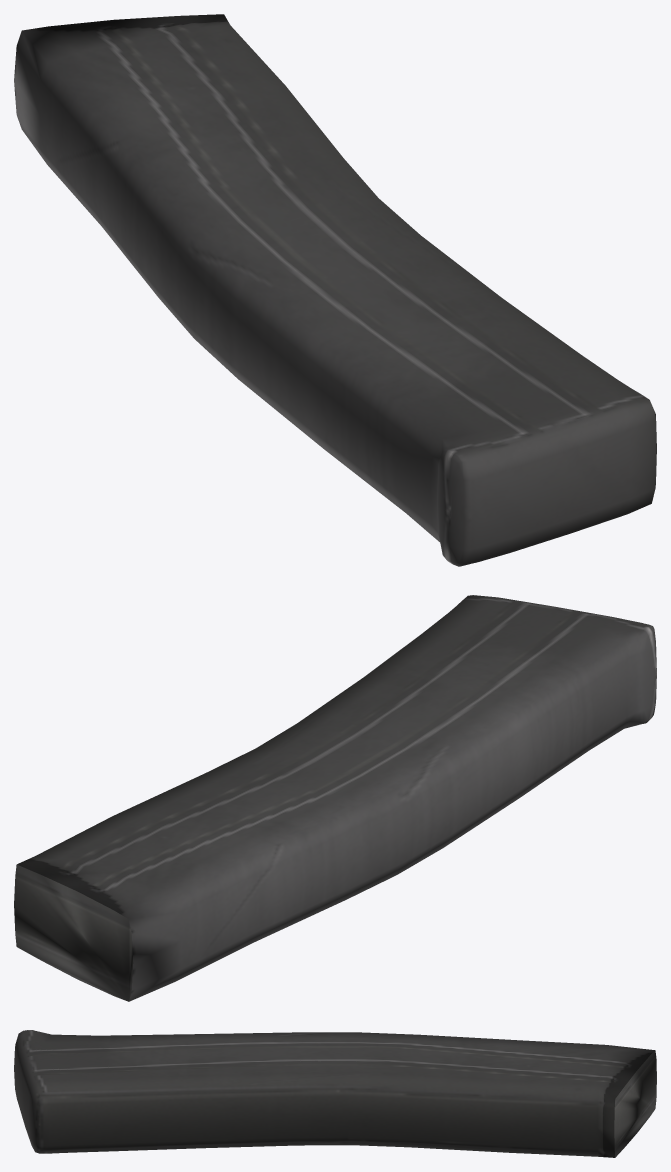
File: TLOG_MPXMagazine.fbx
The picture shows the model from 3 angles, top to bottom: view 1: azimuth 30°, elevation 25°; view 2: azimuth 150°, elevation 25°; view 3: azimuth 270°, elevation 25°; orthographic projection. The views are drawn at different scales.
Parts seen in each view (by area): view 1: MPXMag; view 2: MPXMag; view 3: MPXMag.
Boxes of the visible parts, x1,y1,x2,y2 form: MPXMag: (14,14,656,566); MPXMag: (14,595,656,1001); MPXMag: (14,1030,656,1157).
Bounding box in the file's own units: 0.0321 × 0.0145 × 0.1087.
